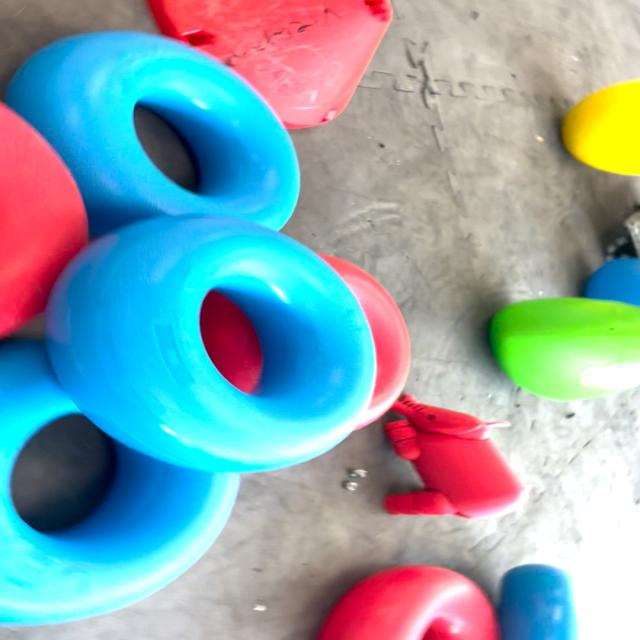Blue-Ring: (47, 216, 376, 472), (0, 341, 240, 625), (7, 31, 300, 235)
Red-Ring: (0, 104, 89, 337)
